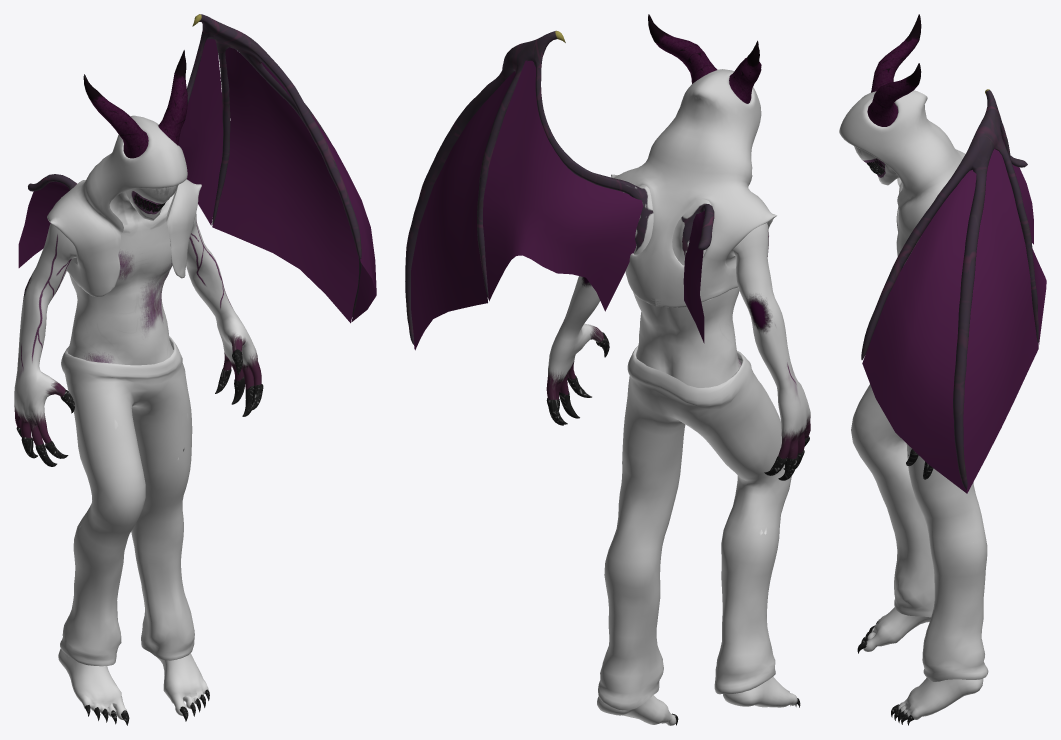
Rendered from Demonio.fbx.
The picture shows the model from 3 angles, left to right: view 1: azimuth 30°, elevation 25°; view 2: azimuth 150°, elevation 25°; view 3: azimuth 270°, elevation 25°; orthographic projection. The views are drawn at different scales.
Parts seen in each view (by area): view 1: Pose_SF; view 2: Pose_SF; view 3: Pose_SF.
Boxes of the visible parts, left/top/right/bottom form: Pose_SF: left=14, top=14, right=376, bottom=725; Pose_SF: left=405, top=14, right=810, bottom=725; Pose_SF: left=839, top=14, right=1046, bottom=725.
Size of the model in its own units: 1249 by 2211 by 629.
